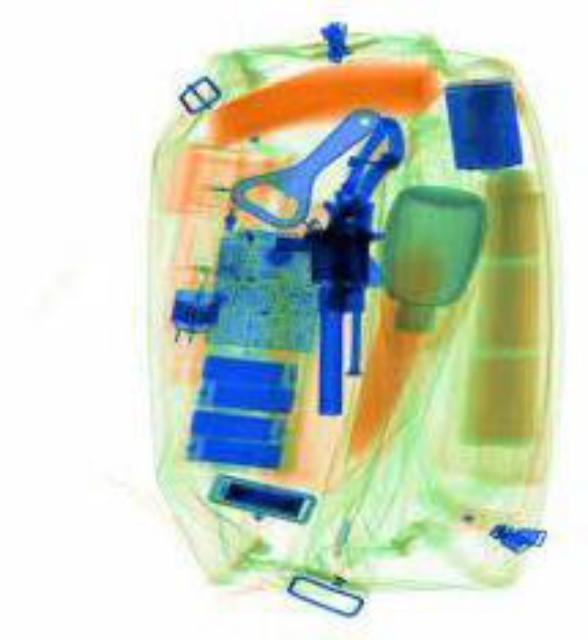Gun: (304, 110, 404, 414)
